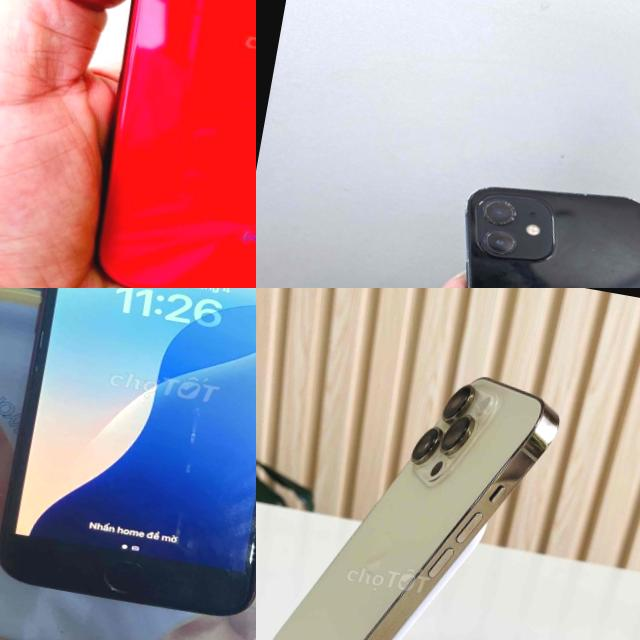gen_11: (60, 0, 256, 288)
gen_12_13: (419, 168, 640, 288)
gen_14: (272, 378, 557, 640)
gen_7_8: (0, 288, 256, 634)
